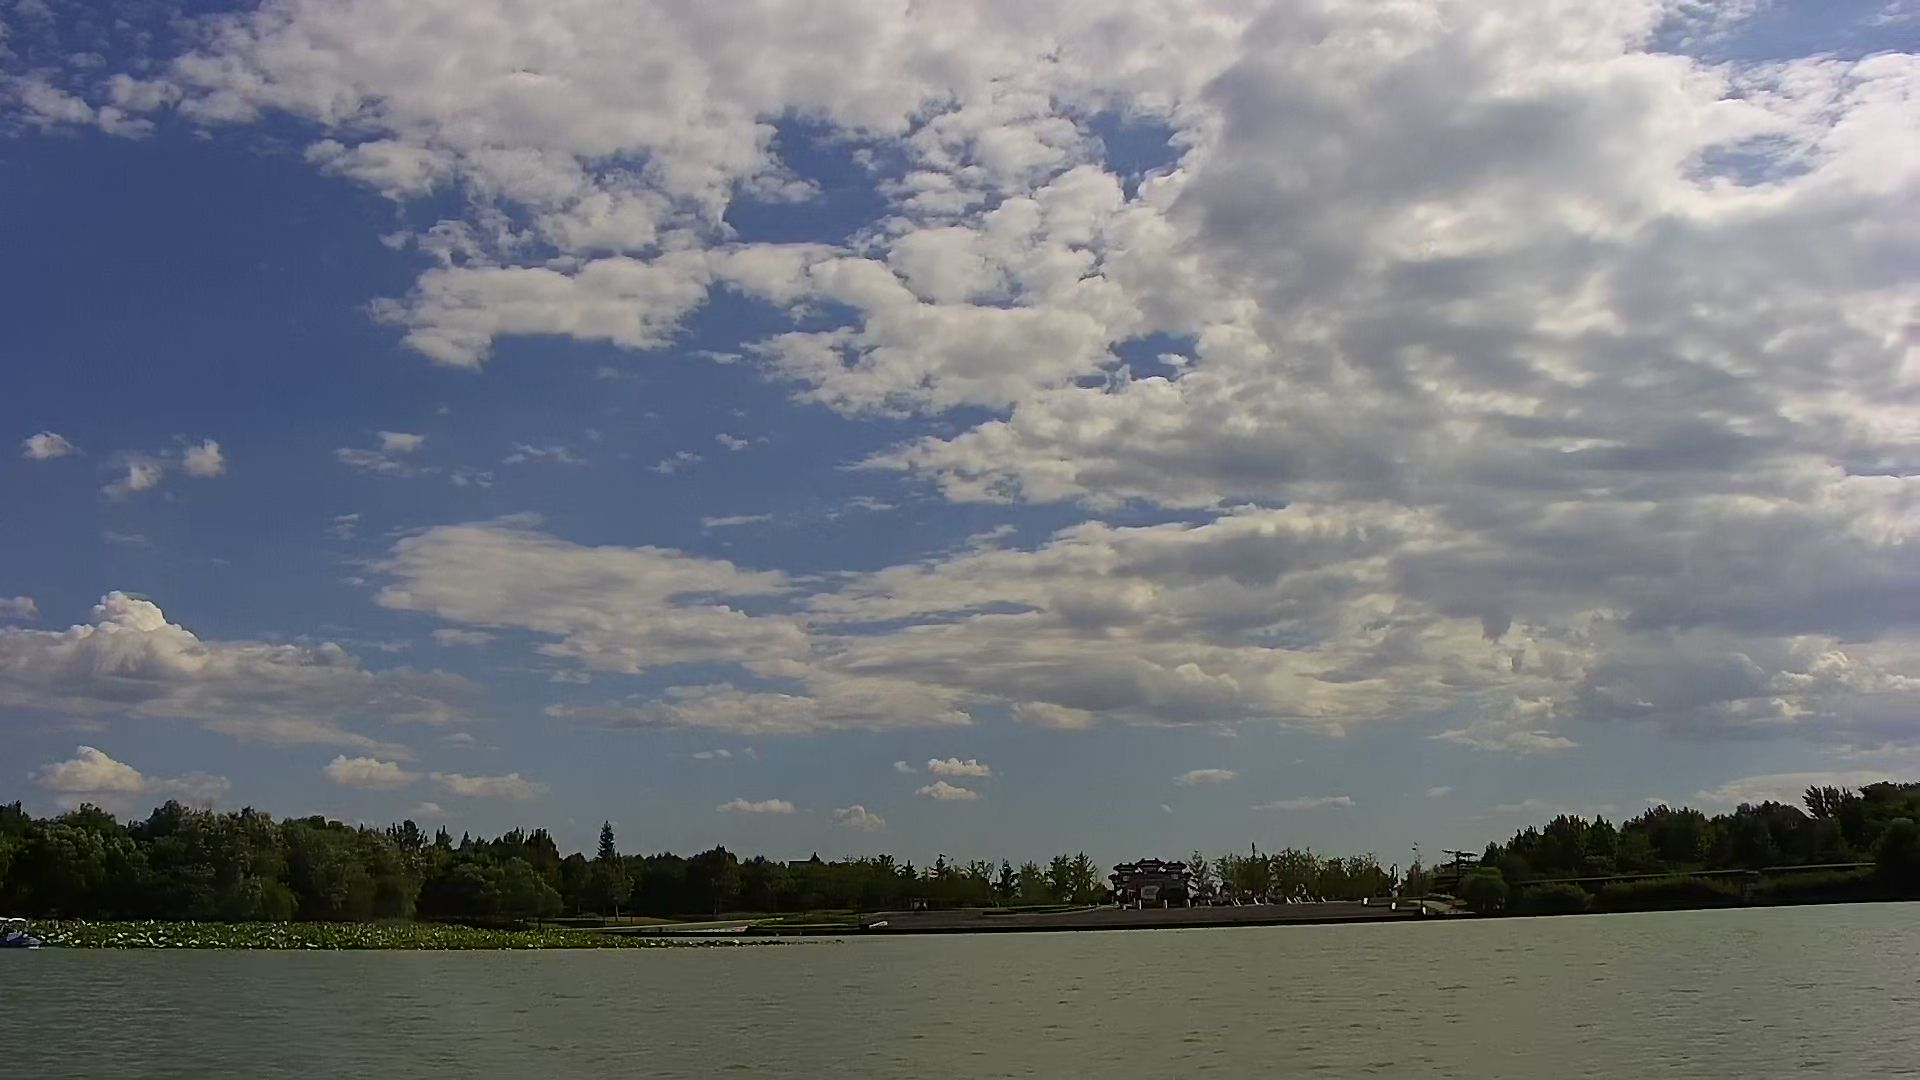harbor: (861, 889, 1493, 935)
